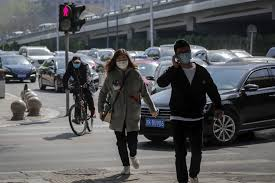mask: (170, 34, 198, 68), (110, 46, 136, 70), (67, 54, 86, 70)
